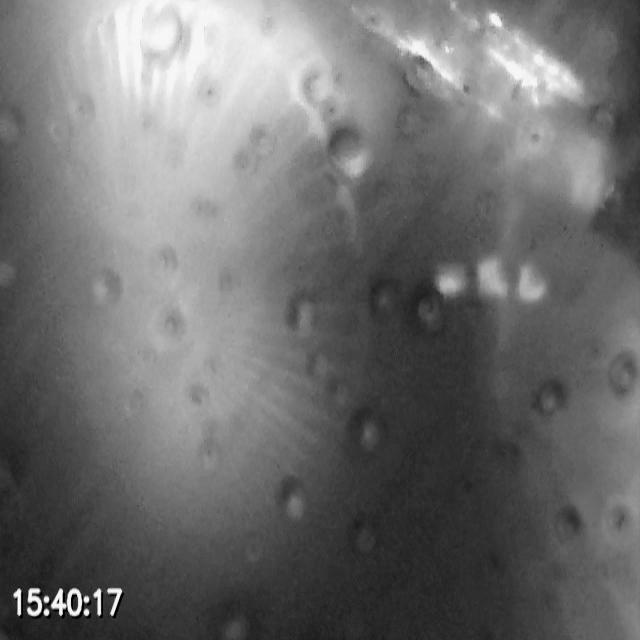white-dots: (436, 256, 548, 302)
